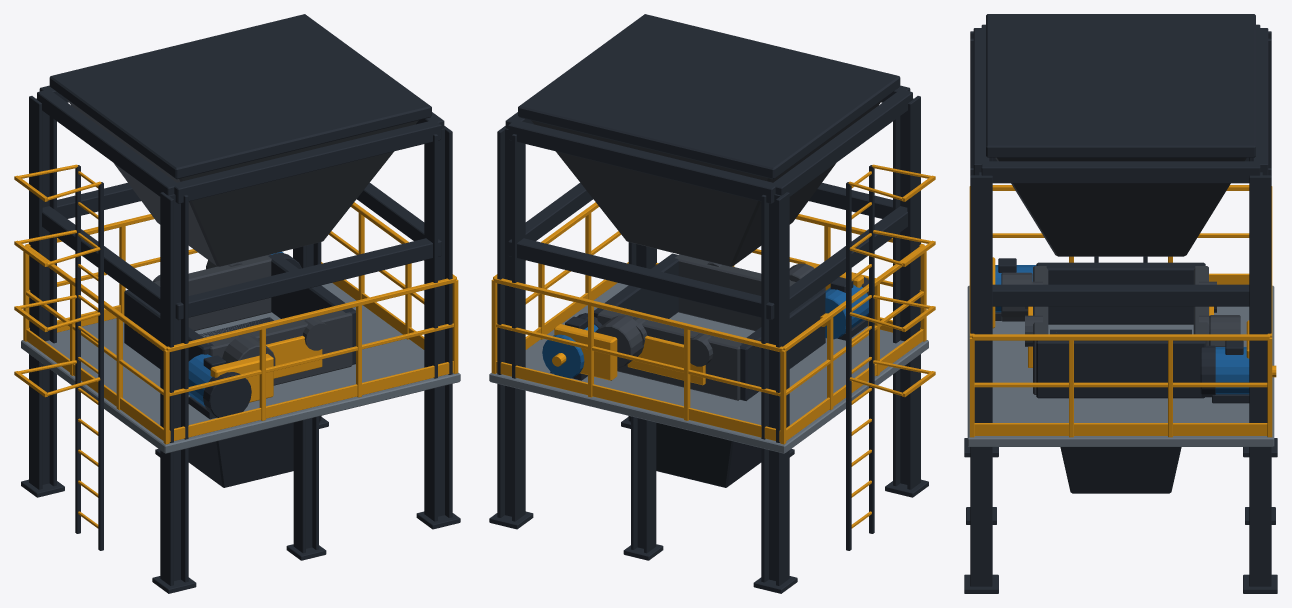
The model's file is double_roll_crusher_drc101.glb.
3 renders of one model, left to right at view 1: azimuth 30°, elevation 25°; view 2: azimuth 150°, elevation 25°; view 3: azimuth 270°, elevation 25°, orthographic. The views are drawn at different scales.
Parts seen in each view (by area): view 1: DRC101_BearBossL_0.36; view 2: DRC101_BearBossL_0.36; view 3: DRC101_BearBossL_0.36.
Boxes of the visible parts, x1=… form: DRC101_BearBossL_0.36: x1=14, y1=14, x2=460, y2=593; DRC101_BearBossL_0.36: x1=489, y1=14, x2=935, y2=593; DRC101_BearBossL_0.36: x1=964, y1=14, x2=1277, y2=593.
Size of the model in its own units: 3.94 by 4.34 by 2.81.
1 material, 1 textured.
